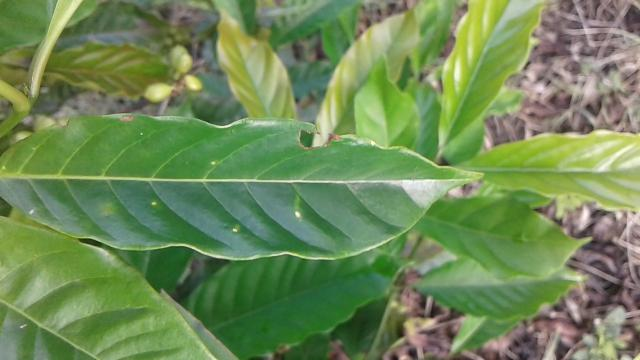rust_level_1: (0, 115, 481, 258)
